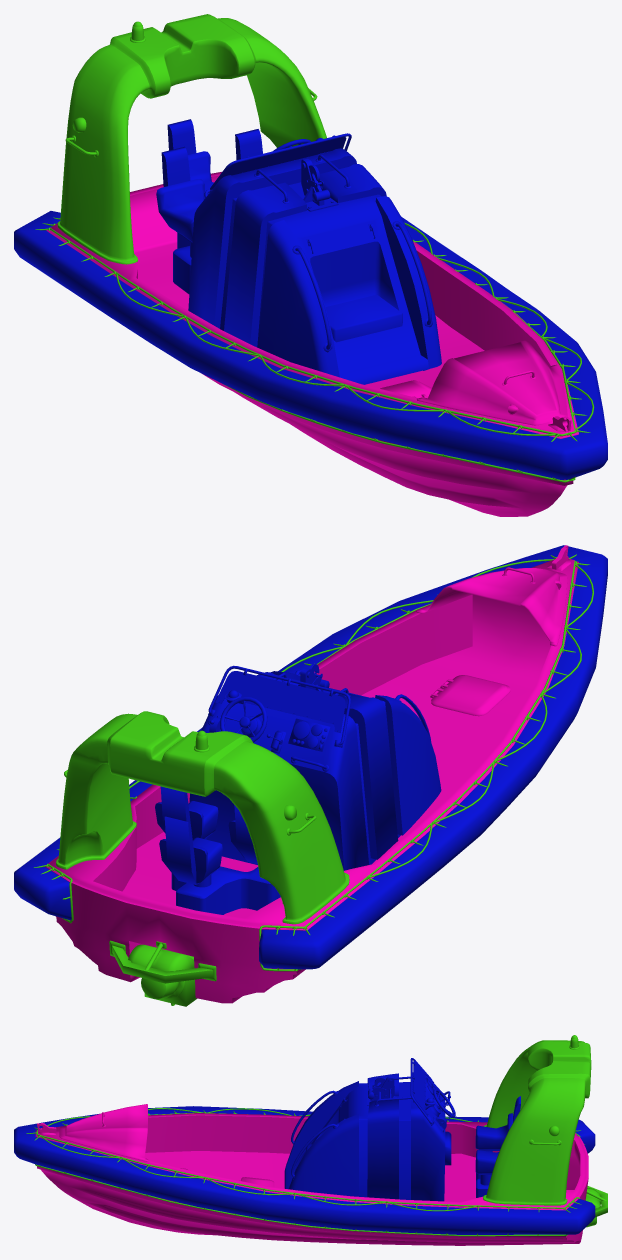
The model's file is SketchfabExpMako655.dae.
The picture shows the model from 3 angles, top to bottom: view 1: azimuth 30°, elevation 25°; view 2: azimuth 150°, elevation 25°; view 3: azimuth 270°, elevation 25°; orthographic projection. The views are drawn at different scales.
Parts seen in each view (by area): view 1: ovladanie1_low, plachta_low, hull_low, spoiler_low, predok1_low, sedacka_01_low, lano1, ovladanie2_low, lano2, ovladanie3_low, ovladanie_sklo, lano_viazanie (+2 smaller); view 2: hull_low, spoiler_low, plachta_low, ovladanie1_low, sedacka_01_low, predok1_low, ovladanie_sklo, sedacka_podstavec_low, dvierka1_low, lano1, motor1_low, lano2 (+5 smaller); view 3: hull_low, plachta_low, ovladanie1_low, spoiler_low, predok1_low, lano1, sedacka_01_low, lano2, ovladanie3_low, ovladanie_sklo, zavesenie1_low, lano_viazanie (+1 smaller).
Part boxes in pixels (x1,y1,x2,y2): ovladanie1_low: (188,148,441,384); plachta_low: (14,211,607,479); hull_low: (46,172,578,516); spoiler_low: (57,14,326,264); predok1_low: (417,340,567,425); sedacka_01_low: (156,119,262,243); lano1: (50,223,575,482); ovladanie2_low: (325,295,402,342); lano2: (116,222,594,435); ovladanie3_low: (204,154,432,352); ovladanie_sklo: (220,136,346,179); lano_viazanie: (35,217,590,480); hull_low: (45,559,578,1003); spoiler_low: (56,711,349,924); plachta_low: (14,545,607,969); ovladanie1_low: (189,671,441,870); sedacka_01_low: (155,786,257,884); predok1_low: (416,567,567,646); ovladanie_sklo: (215,671,345,732); sedacka_podstavec_low: (171,866,280,914); dvierka1_low: (430,675,510,716); lano1: (48,560,575,971); motor1_low: (109,940,216,983); lano2: (129,559,593,877); hull_low: (35,1113,588,1245); plachta_low: (14,1106,595,1234); ovladanie1_low: (284,1072,445,1201); spoiler_low: (483,1040,591,1205); predok1_low: (59,1104,148,1161); lano1: (35,1112,580,1236); sedacka_01_low: (475,1096,520,1174); lano2: (41,1108,476,1211); ovladanie3_low: (291,1076,450,1179); ovladanie_sklo: (413,1061,428,1116); zavesenie1_low: (367,1076,395,1105); lano_viazanie: (26,1110,584,1235).
Bounding box in the file's own units: 2723 × 2418 × 6782.
